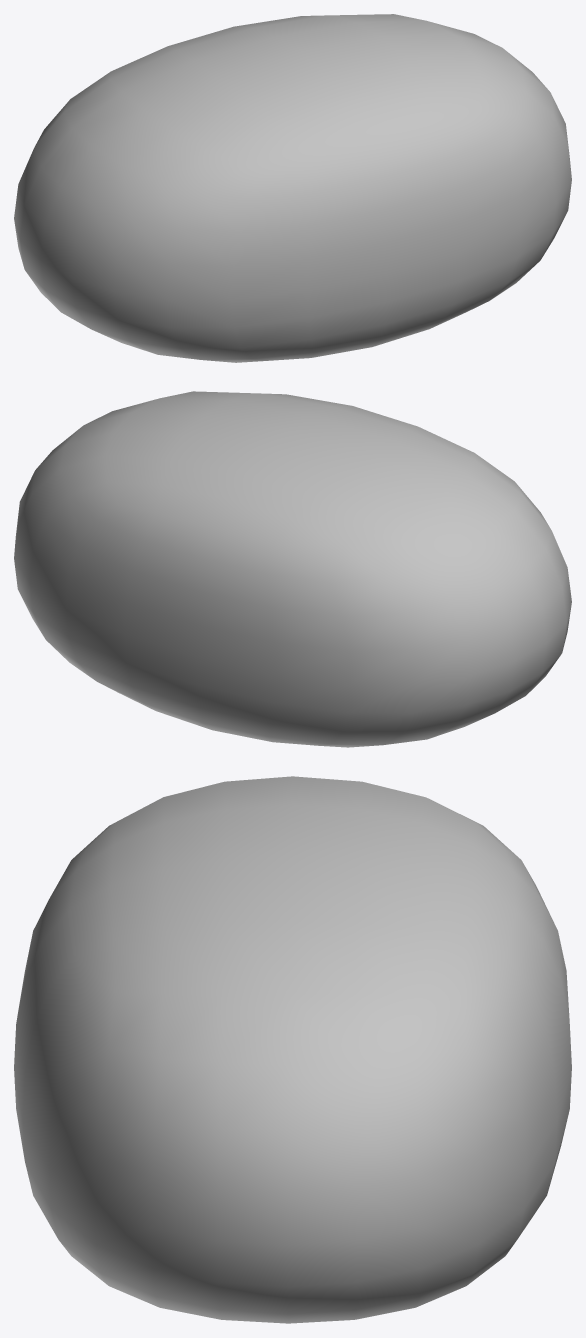
File: Town_4_Stone_3.glb
3 views of the same model, one above another, from view 1: azimuth 30°, elevation 25°; view 2: azimuth 150°, elevation 25°; view 3: azimuth 270°, elevation 25° (orthographic). The views are drawn at different scales.
Parts seen in each view (by area): view 1: Town_4_Stone_3; view 2: Town_4_Stone_3; view 3: Town_4_Stone_3.
Boxes of the visible parts, x1=… form: Town_4_Stone_3: x1=14, y1=14, x2=571, y2=362; Town_4_Stone_3: x1=14, y1=391, x2=571, y2=747; Town_4_Stone_3: x1=14, y1=776, x2=571, y2=1323.
Bounding box in the file's own units: 1.2 × 0.5696 × 0.789.
1 material, 1 textured.
